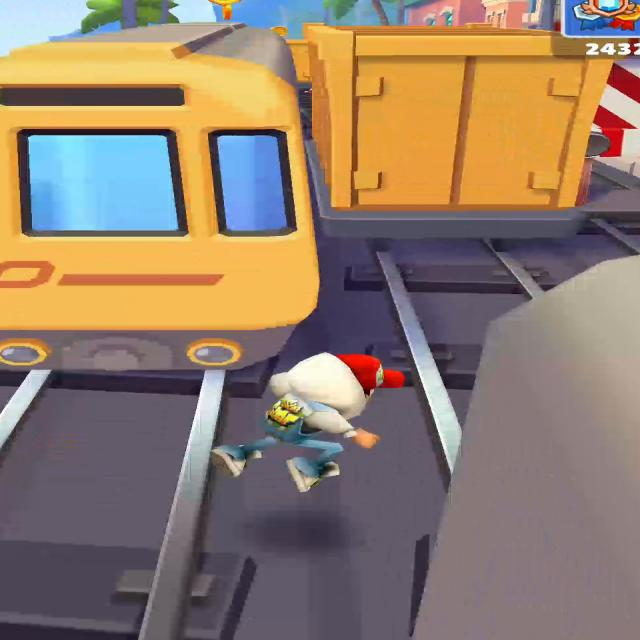jump-barrier: (576, 59, 639, 205)
train: (0, 23, 319, 379), (305, 25, 611, 239), (287, 39, 310, 82)
